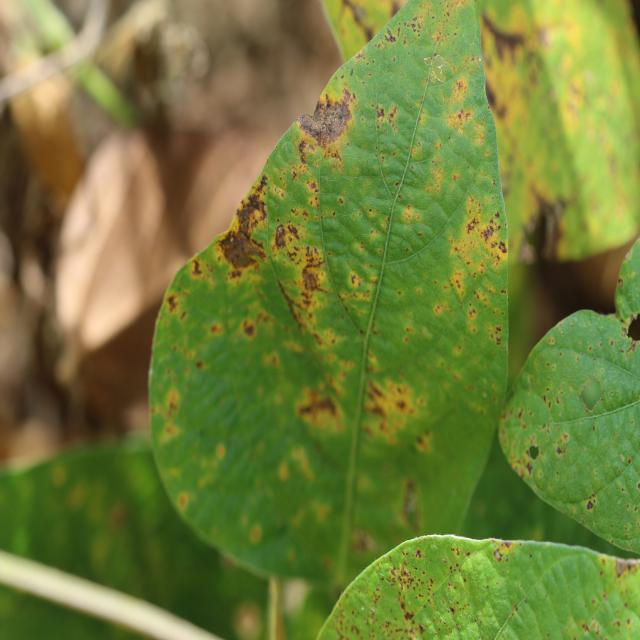Bacterial_Blight: (307, 90, 348, 149), (480, 10, 527, 60), (425, 7, 461, 46), (298, 390, 338, 424), (332, 282, 364, 324), (233, 602, 262, 639), (448, 100, 476, 135), (580, 376, 604, 413), (562, 614, 593, 640), (301, 261, 325, 293), (244, 189, 267, 218), (424, 53, 446, 82), (351, 529, 376, 554), (395, 564, 416, 591), (240, 313, 258, 343), (614, 557, 639, 578), (449, 271, 467, 298), (164, 388, 181, 415), (110, 503, 128, 528), (403, 16, 423, 37), (273, 223, 288, 249), (51, 464, 67, 488), (414, 433, 430, 453), (298, 140, 310, 165), (277, 460, 290, 482), (465, 216, 480, 235), (166, 293, 179, 312), (190, 259, 203, 277), (625, 341, 637, 360), (249, 525, 262, 542), (214, 443, 226, 461), (385, 27, 397, 43), (454, 79, 466, 94), (209, 323, 222, 336), (178, 493, 188, 509), (350, 273, 361, 287), (404, 608, 414, 622), (493, 548, 503, 561), (498, 240, 507, 254), (376, 105, 385, 119), (623, 248, 632, 260), (526, 462, 533, 475), (586, 500, 594, 510), (502, 540, 512, 548), (195, 360, 203, 369), (418, 624, 425, 634), (469, 308, 476, 318), (415, 549, 422, 559), (556, 446, 563, 455), (618, 278, 624, 287), (455, 623, 461, 631), (450, 607, 456, 614), (495, 211, 501, 218), (627, 457, 632, 465), (465, 551, 471, 557), (514, 605, 519, 612), (380, 574, 385, 581), (350, 67, 354, 75), (339, 198, 344, 204), (501, 289, 506, 295), (405, 247, 409, 253), (638, 483, 640, 490)
Soybean: (150, 1, 508, 579)
